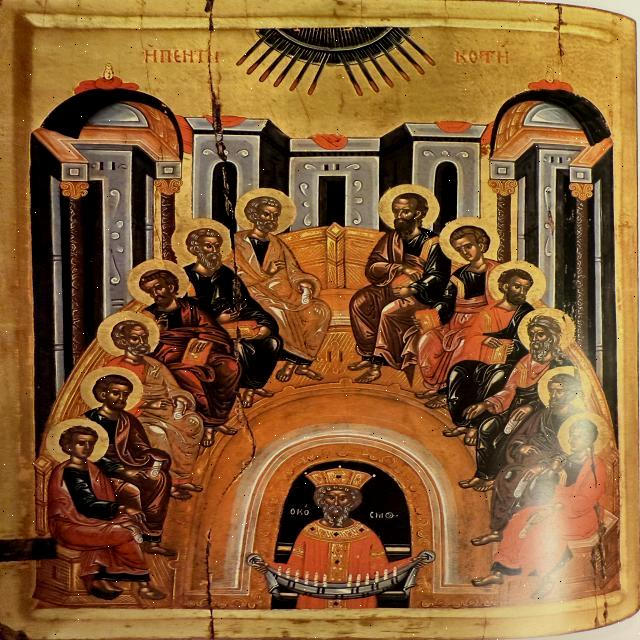aura: (376, 185, 442, 235), (173, 217, 235, 269), (128, 260, 192, 310), (518, 307, 579, 359), (439, 218, 501, 269), (485, 260, 549, 309), (98, 312, 164, 359), (47, 419, 111, 465), (234, 187, 298, 233), (80, 369, 144, 413), (557, 414, 615, 459), (540, 365, 594, 411)
book: (477, 335, 515, 365), (408, 307, 448, 333), (222, 322, 267, 344), (184, 337, 215, 367), (393, 272, 421, 301)
crown: (296, 465, 384, 491)
scroll: (495, 403, 530, 435), (514, 514, 542, 546), (122, 517, 150, 547), (169, 394, 192, 426), (297, 281, 321, 307), (515, 469, 535, 499), (150, 454, 170, 482)
